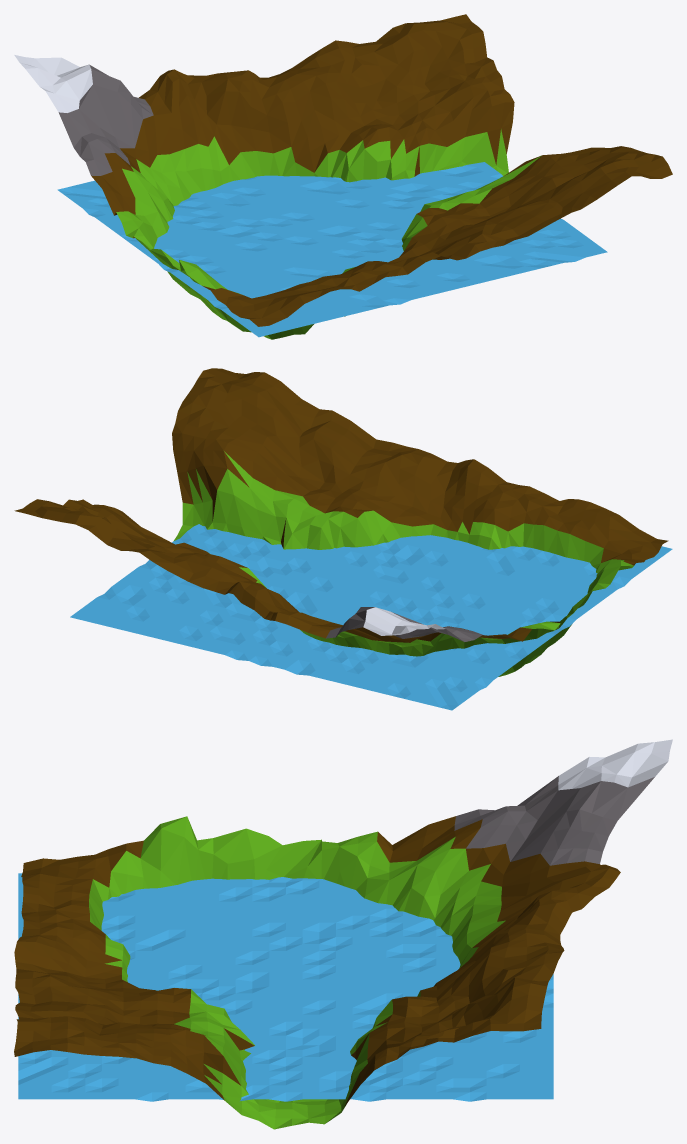
File: 산배경테스트(배경X).fbx
3 renders of one model, top to bottom at view 1: azimuth 30°, elevation 25°; view 2: azimuth 150°, elevation 25°; view 3: azimuth 270°, elevation 25°, orthographic. The views are drawn at different scales.
Parts seen in each view (by area): view 1: Plane, Plane.001; view 2: Plane, Plane.001; view 3: Plane, Plane.001.
Part boxes in pixels (<box>): Plane: <box>14,14,672,339</box>; Plane.001: <box>57,162,607,337</box>; Plane: <box>14,368,668,676</box>; Plane.001: <box>70,524,672,710</box>; Plane: <box>14,739,672,1129</box>; Plane.001: <box>18,873,553,1101</box>.
Size of the model in its own units: 249 by 87.49 by 246.
